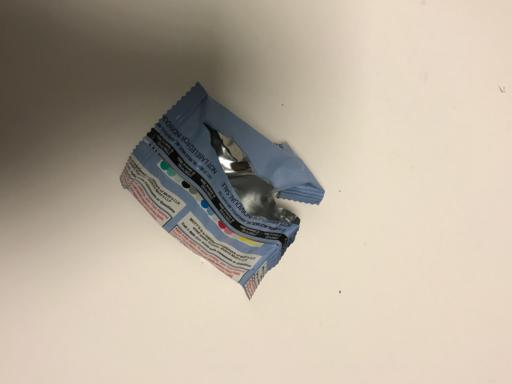trash: (119, 81, 325, 302)
